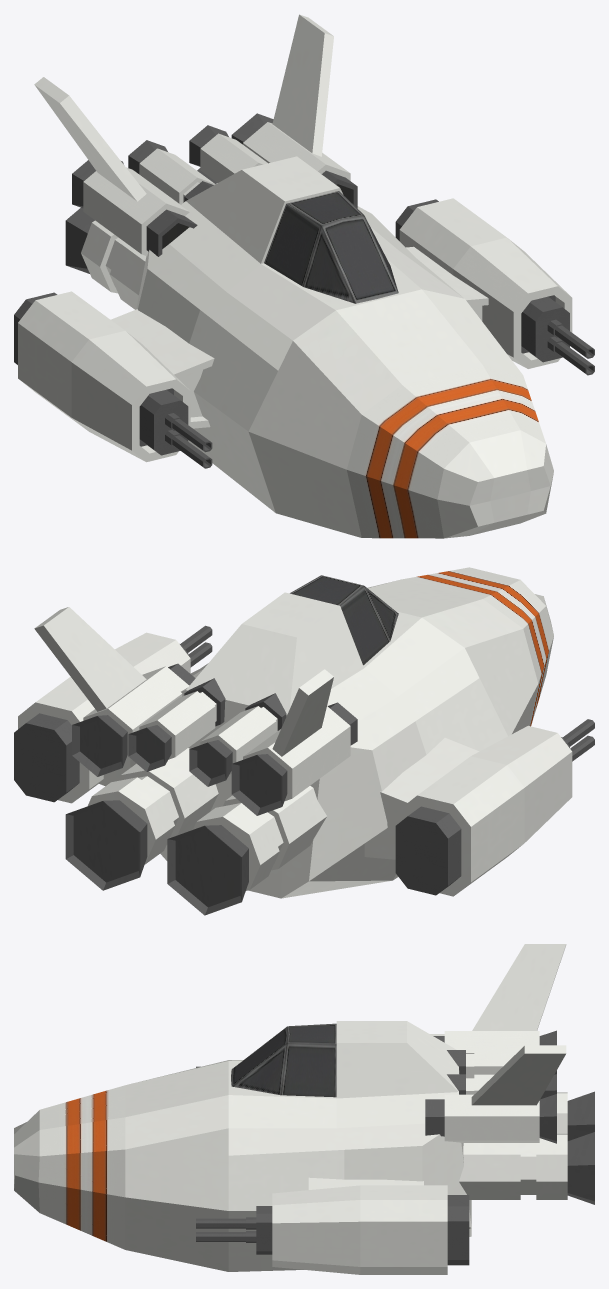
File: aether.glb
The picture shows the model from 3 angles, top to bottom: view 1: azimuth 30°, elevation 25°; view 2: azimuth 150°, elevation 25°; view 3: azimuth 270°, elevation 25°; orthographic projection. The views are drawn at different scales.
Parts seen in each view (by area): view 1: aether; view 2: aether; view 3: aether.
Part boxes in pixels (x1,y1,x2,y2): aether: (14,14,594,538); aether: (14,567,594,915); aether: (14,944,594,1274).
Bounding box in the file's own units: 4.39 × 2.73 × 6.
1 material, 1 textured.
